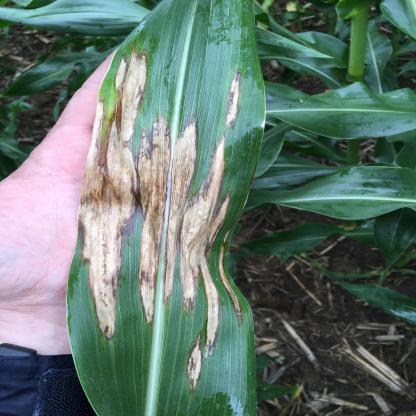Corn leaf blight: (80, 1, 260, 416)
